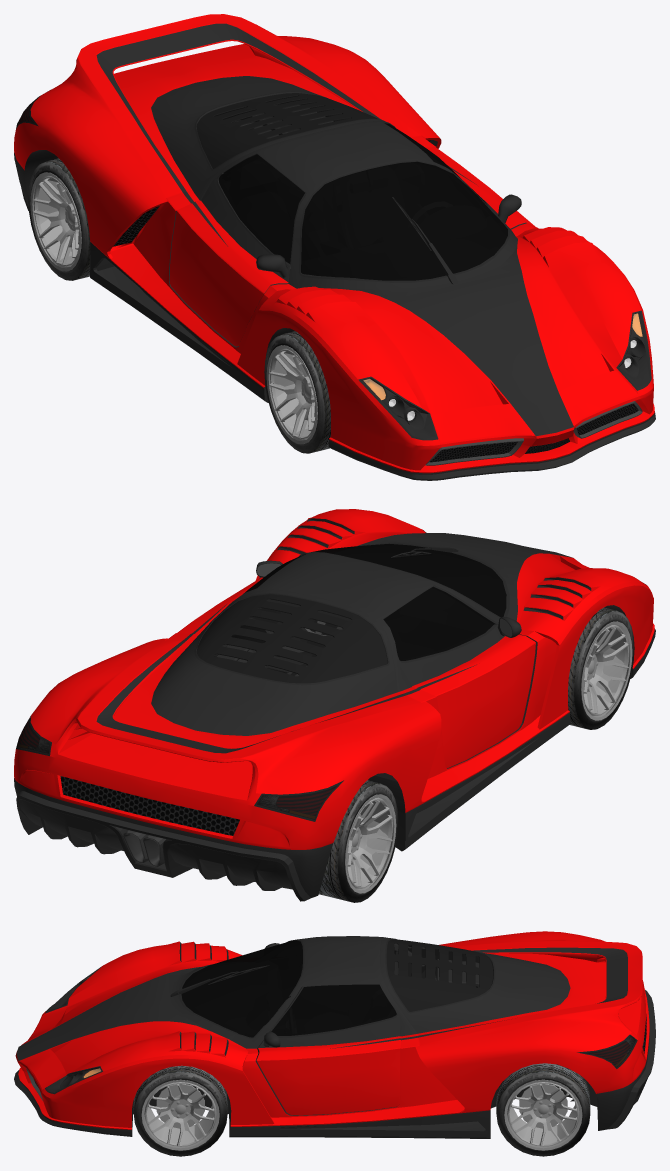
Rendered from markerless.glb.
The picture shows the model from 3 angles, top to bottom: view 1: azimuth 30°, elevation 25°; view 2: azimuth 150°, elevation 25°; view 3: azimuth 270°, elevation 25°; orthographic projection. The views are drawn at different scales.
Parts seen in each view (by area): view 1: Body, Door Right, Wheel FR, Wheel RR, Door Left; view 2: Body, Door Right, Wheel RR, Wheel FR, Door Left; view 3: Body, Door Left, Wheel RL, Wheel FL.
Boxes of the visible parts, x1,y1,x2,y2 form: Body: (14, 14, 655, 480); Door Right: (169, 153, 306, 346); Wheel FR: (264, 331, 330, 453); Wheel RR: (28, 158, 90, 280); Door Left: (382, 122, 534, 229); Body: (14, 509, 655, 901); Door Right: (383, 585, 535, 768); Wheel RR: (319, 780, 398, 902); Wheel FR: (568, 607, 634, 729); Door Left: (177, 555, 304, 634); Body: (14, 931, 655, 1138); Door Left: (256, 983, 401, 1115); Wheel RL: (496, 1063, 590, 1156); Wheel FL: (133, 1065, 227, 1156).
Size of the model in its own units: 88.15 by 49.56 by 200.
25 materials, 6 textured.
